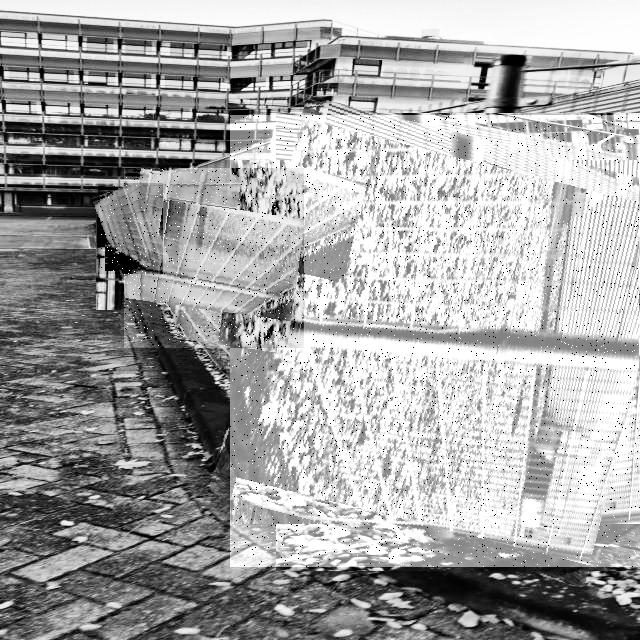fences: (230, 115, 640, 567), (124, 168, 304, 348), (98, 183, 163, 274)
